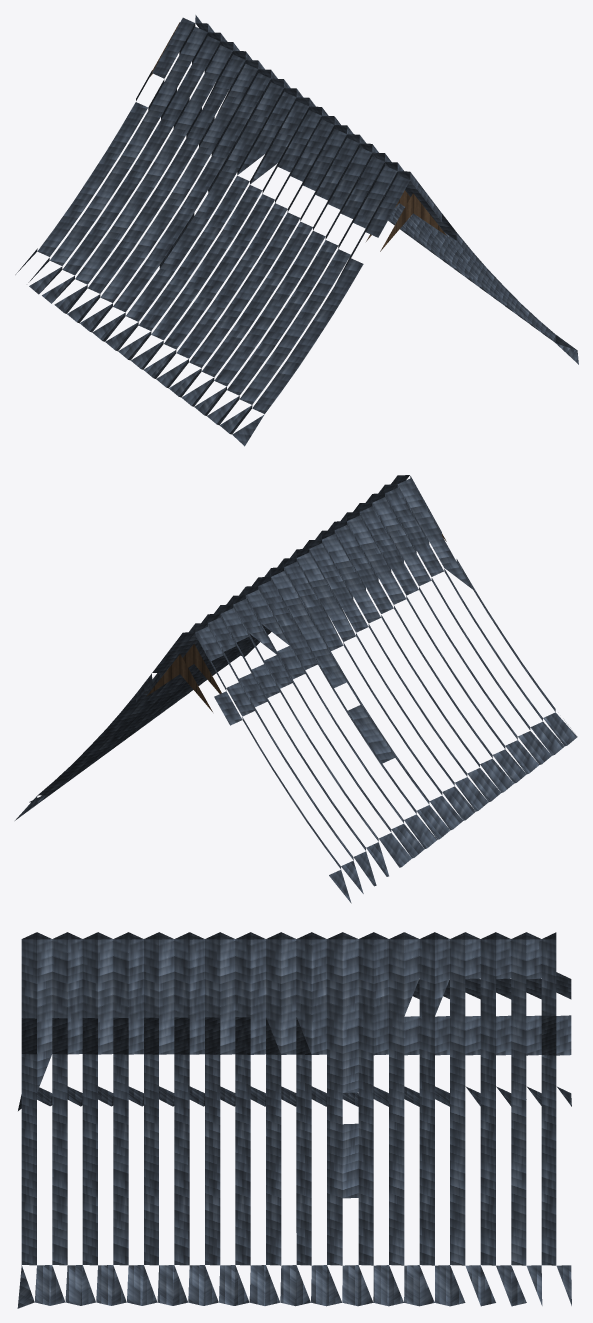
File: Roof_Slate_6x8_LOD1.gltf
3 renders of one model, top to bottom at view 1: azimuth 30°, elevation 25°; view 2: azimuth 150°, elevation 25°; view 3: azimuth 270°, elevation 25°, orthographic. The views are drawn at different scales.
Visible parts, largest first — view 1: Roof_Slate_6x8_LOD1; view 2: Roof_Slate_6x8_LOD1; view 3: Roof_Slate_6x8_LOD1.
Part boxes in pixels (x1,y1,x2,y2): Roof_Slate_6x8_LOD1: (15, 15, 578, 446); Roof_Slate_6x8_LOD1: (15, 475, 577, 903); Roof_Slate_6x8_LOD1: (17, 932, 571, 1308).
Bounding box in the file's own units: 8.25 × 5.17 × 9.66.
2 materials, 2 textured.
